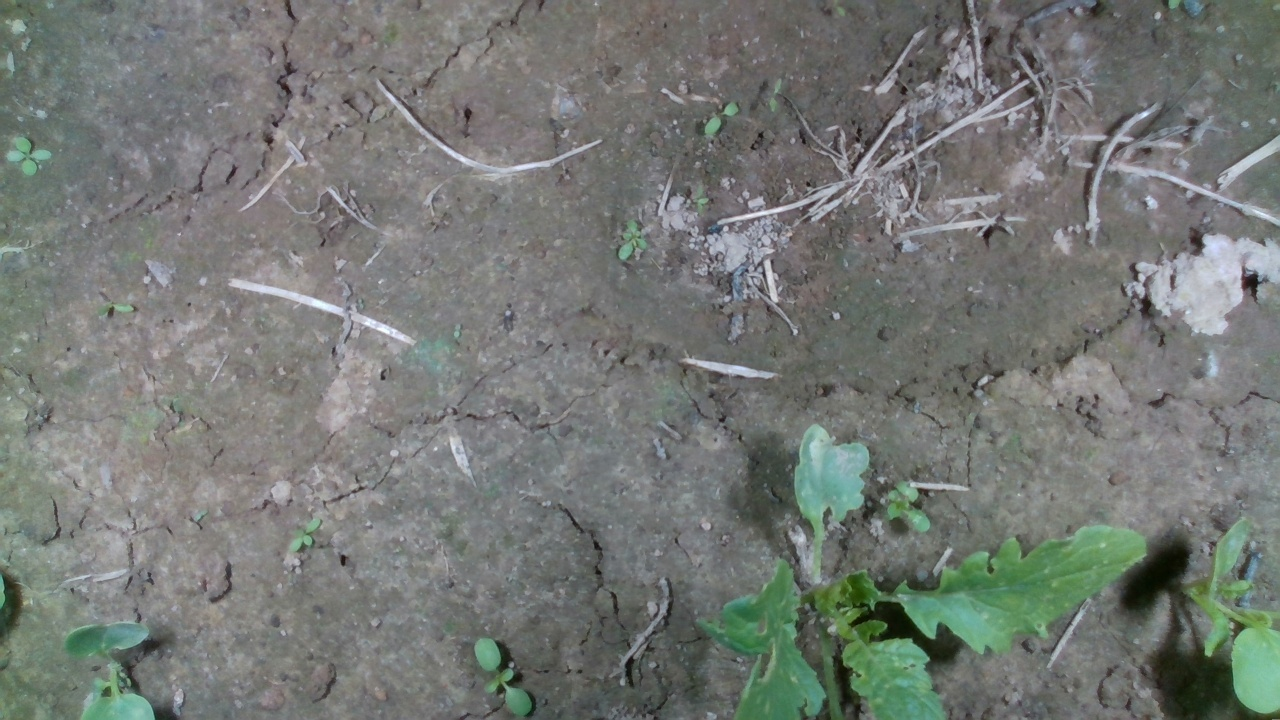weed: (472, 636, 534, 716), (2, 136, 53, 178), (286, 515, 322, 557), (701, 100, 740, 138), (769, 76, 783, 114)
